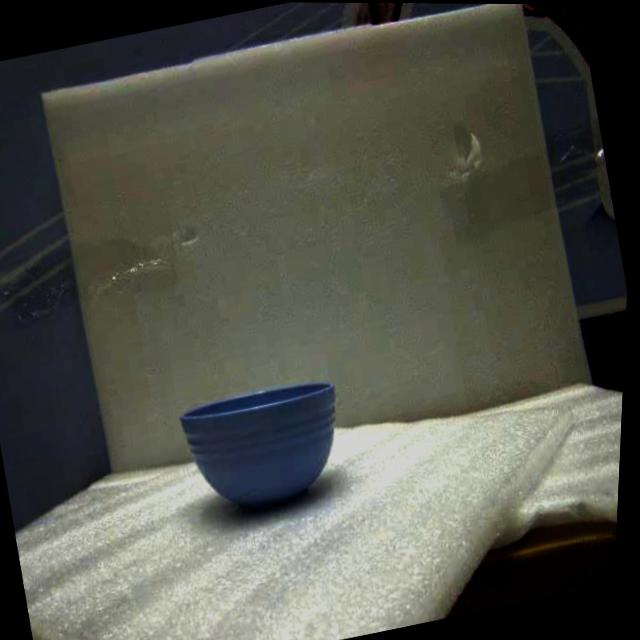Bowl: (183, 383, 335, 508)
